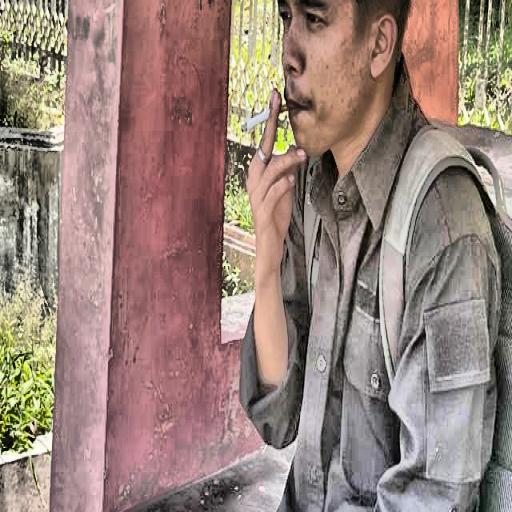Merokok: (243, 108, 271, 129), (279, 105, 286, 114)
Rokok: (247, 0, 397, 378)
